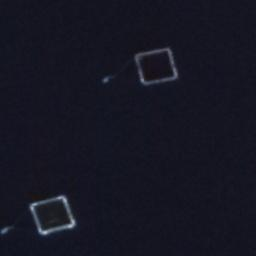square_solid: (26, 192, 80, 240), (131, 45, 182, 87)
